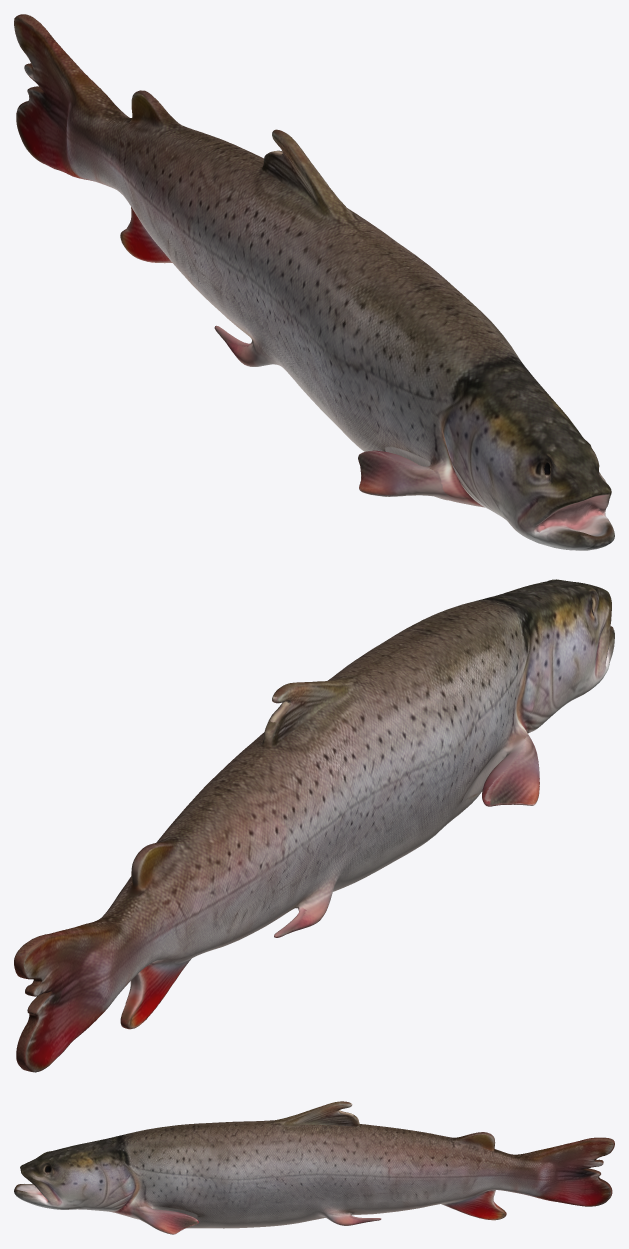
Rendered from таймень рыба.glb.
The picture shows the model from 3 angles, top to bottom: view 1: azimuth 30°, elevation 25°; view 2: azimuth 150°, elevation 25°; view 3: azimuth 270°, elevation 25°; orthographic projection. The views are drawn at different scales.
Bounding box in the file's own units: 0.327 × 0.4352 × 1.9.
Materials: 1 (1 with a texture image).
